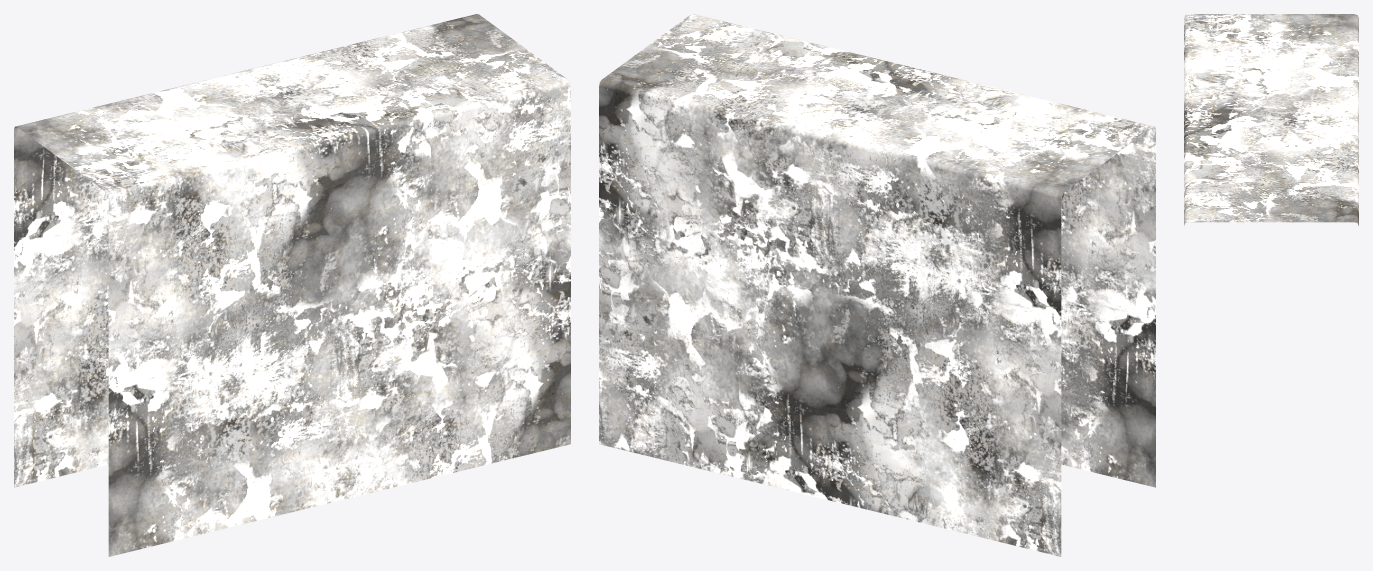
File: SM_fence_03_02.fbx
3 renders of one model, left to right at view 1: azimuth 30°, elevation 25°; view 2: azimuth 150°, elevation 25°; view 3: azimuth 270°, elevation 25°, orthographic. The views are drawn at different scales.
Visible parts, largest first — view 1: SM_fence_03_02_LOD0; view 2: SM_fence_03_02_LOD0; view 3: SM_fence_03_02_LOD0.
Part boxes in pixels (bbox=[...]): SM_fence_03_02_LOD0: bbox=[14, 14, 570, 556]; SM_fence_03_02_LOD0: bbox=[599, 14, 1155, 556]; SM_fence_03_02_LOD0: bbox=[1184, 14, 1358, 225].
Size of the model in its own units: 200 by 71 by 150.
Materials: 1 (1 with a texture image).
